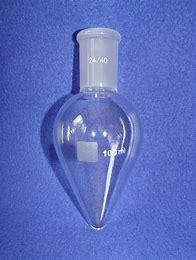Pear shaped flask: (39, 21, 143, 229)
